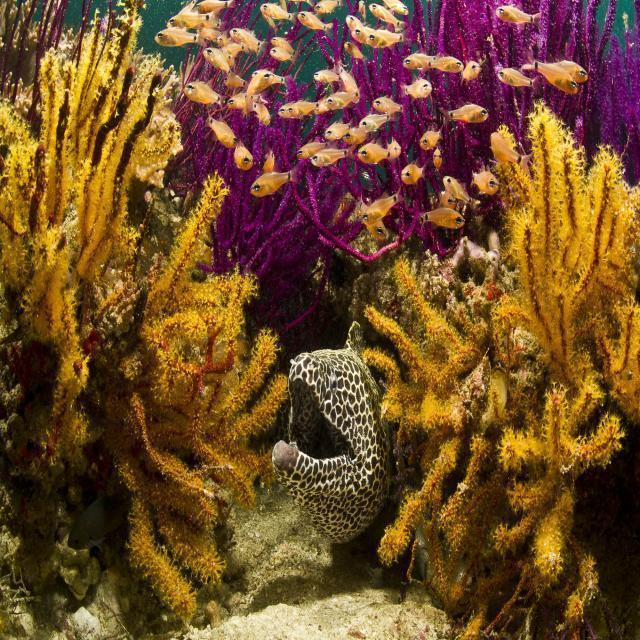Healthy Coral: (0, 1, 280, 608), (379, 105, 640, 620)
